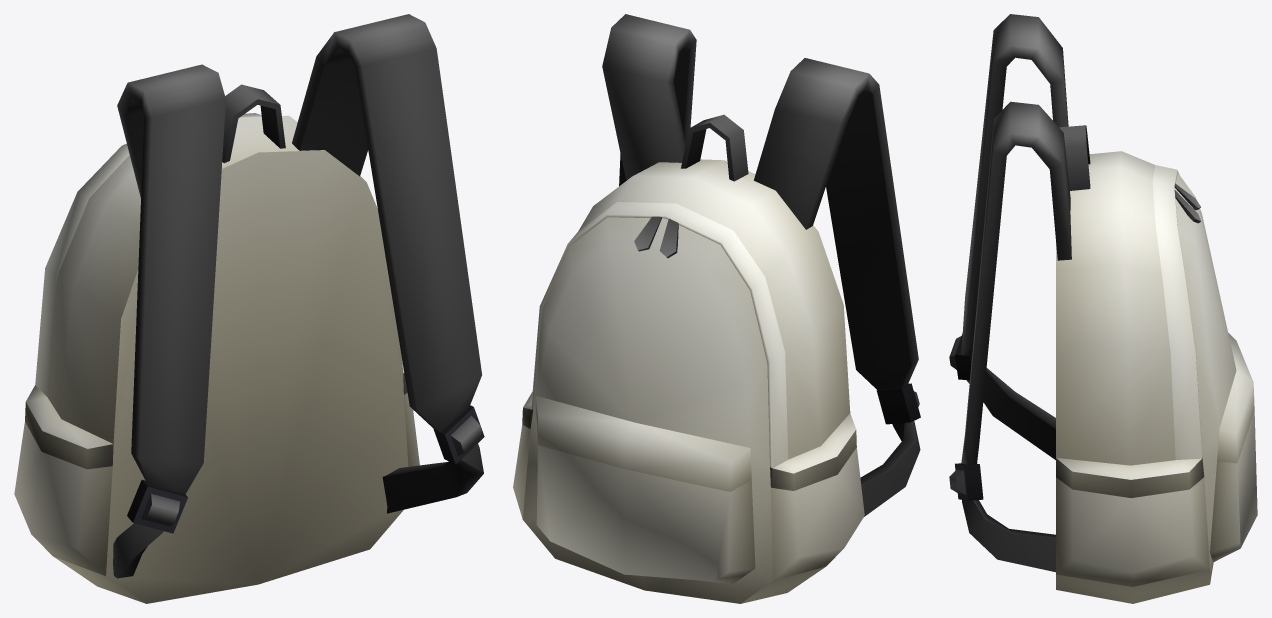
File: CR_Backpack_01.FBX
3 renders of one model, left to right at view 1: azimuth 30°, elevation 25°; view 2: azimuth 150°, elevation 25°; view 3: azimuth 270°, elevation 25°, orthographic. The views are drawn at different scales.
Visible parts, largest first — view 1: CR_Backpack_01; view 2: CR_Backpack_01; view 3: CR_Backpack_01.
Part boxes in pixels (x1,y1,x2,y2): CR_Backpack_01: (14,14,484,603); CR_Backpack_01: (513,14,920,603); CR_Backpack_01: (949,14,1257,603).
Size of the model in its own units: 34.36 by 50.4 by 28.88.
